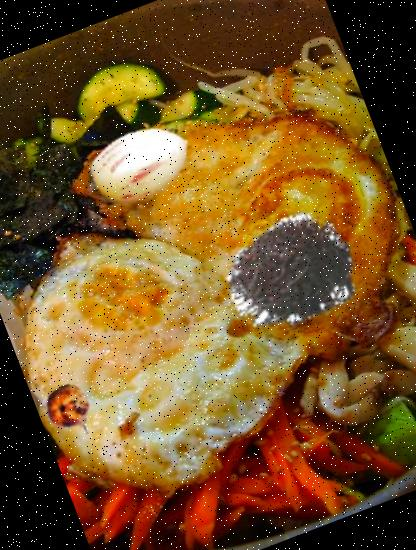Pear: (34, 377, 104, 447)
Pepino: (74, 97, 208, 232)
Rambutan: (204, 184, 378, 358)
